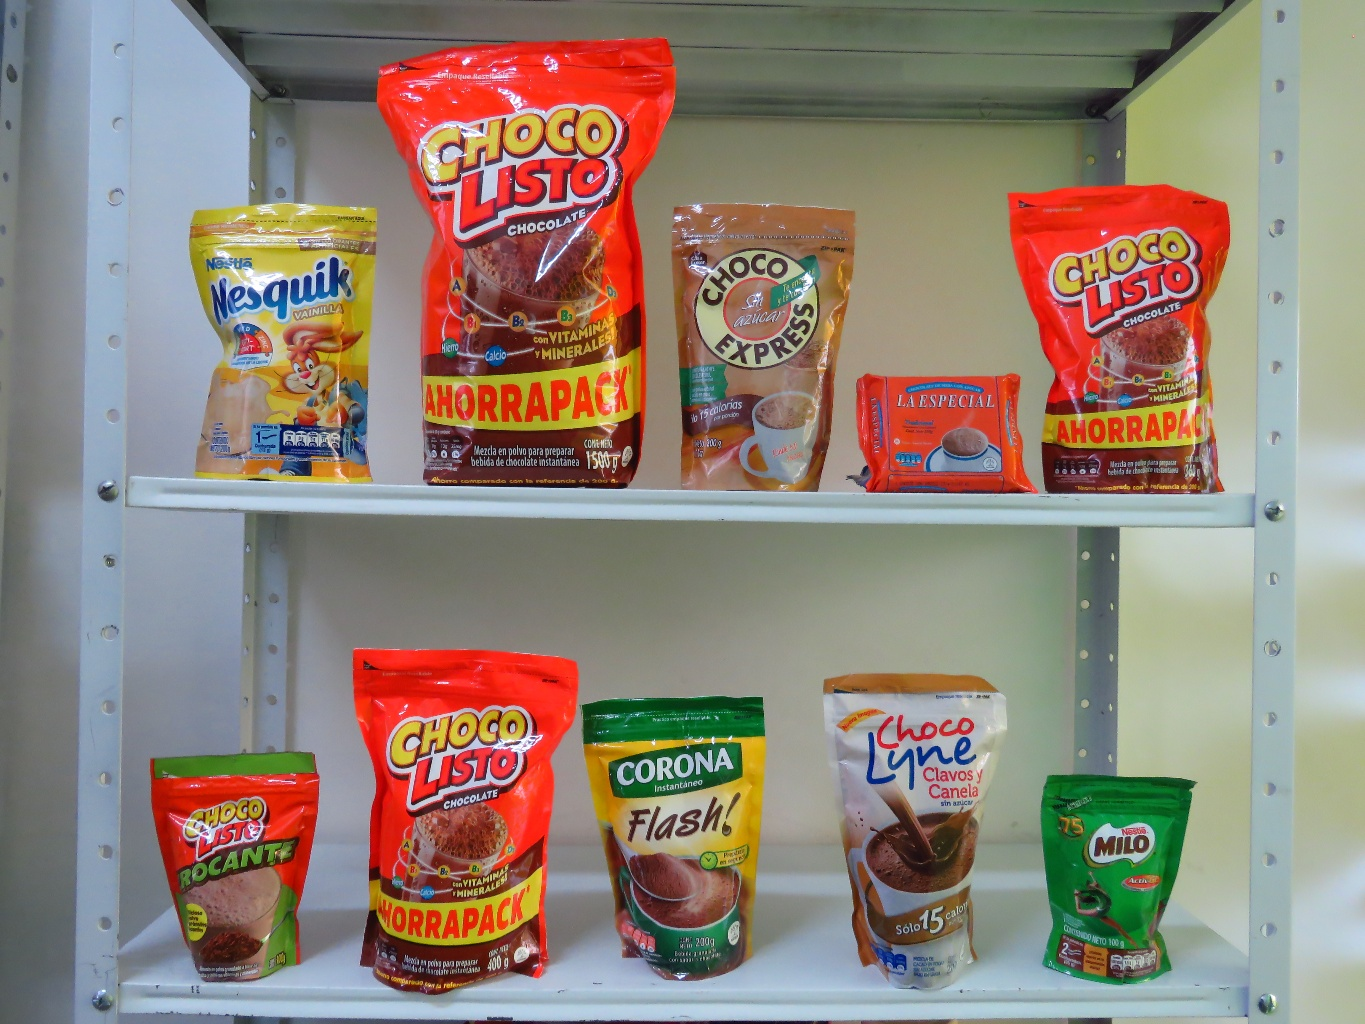COL0170102DYP10000: (143, 757, 329, 982)
COL0170103DYP1,500: (376, 38, 670, 498)
COL0170103DYP36000: (1005, 185, 1229, 494)
COL0170103DYP40000: (352, 648, 578, 997)
COL0170203DYP10000: (1040, 773, 1200, 985)
COL0170306DYP20000: (188, 204, 388, 484)
